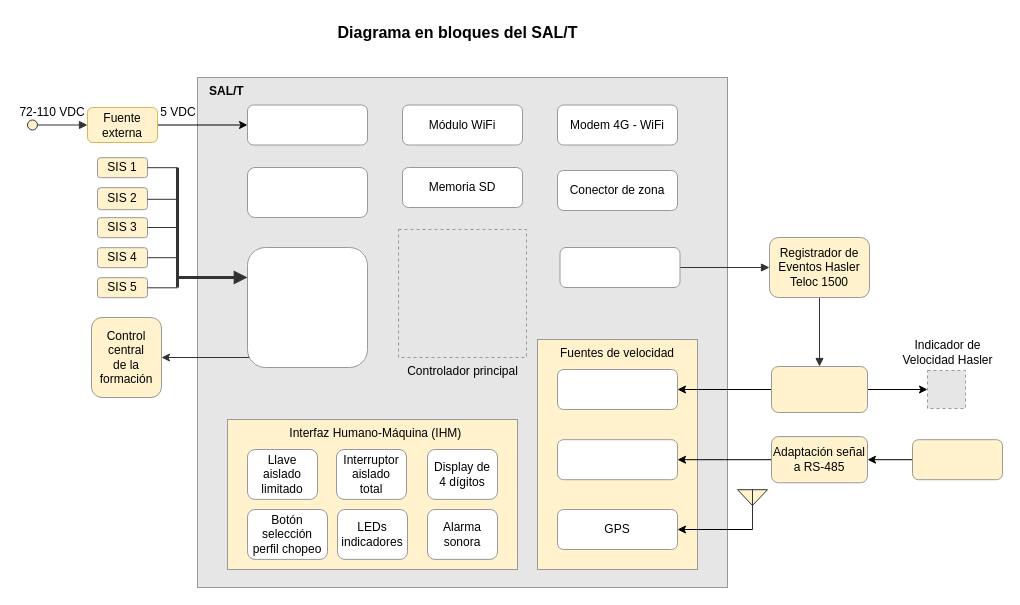
Image size: 1020x605. Some labels were removed from this diagram. Grey dashed boxes stand in for pictures. Here are the shapes that lost their labels. From the top down, the centre of each, then its label:
point 307,124: Alimentación
point 307,192: Interfaz de configuración y reportería
point 619,267: Interfaz con registrador
point 307,307: Control de señales de seguridad
point 617,389: 1- Interfaz RS-485
point 819,389: Intercepción bus RS-485 interno
point 617,459: 2- Interfaz RS-485
point 957,459: Generador de impulsos
